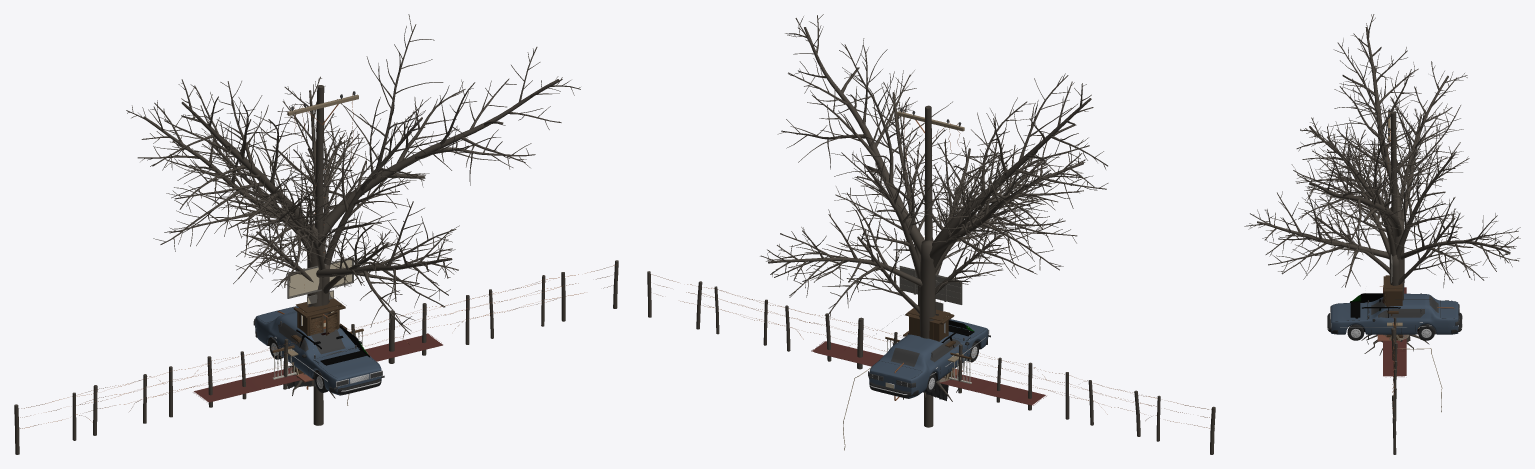
Rendered from props_m1.glb.
The picture shows the model from 3 angles, left to right: view 1: azimuth 30°, elevation 25°; view 2: azimuth 150°, elevation 25°; view 3: azimuth 270°, elevation 25°; orthographic projection. The views are drawn at different scales.
Visible parts, largest first — view 1: P_TREE_2-dead_tree, P_TREE_1-dead_tree, P_CAR_GATE-sedan-body, P_UTILITY_POLE-utility_pole, P_RUNNER_U1-runner_rug, P_FENCE_W-fence_run, P_FENCE_E-fence_run, P_CAR_GATE-sedan, P_SIGN-sign_post-face, P_ARMOIRE-slatted_cabinet; view 2: P_TREE_2-dead_tree, P_TREE_1-dead_tree, P_CAR_GATE-sedan-body, P_RUNNER_U1-runner_rug, P_UTILITY_POLE-utility_pole, P_FENCE_W-fence_run, P_FENCE_E-fence_run, P_SIGN-sign_post, P_ARMOIRE-slatted_cabinet, P_CAR_GATE-sedan; view 3: P_TREE_2-dead_tree, P_TREE_1-dead_tree, P_CAR_GATE-sedan-body, P_CAR_GATE-sedan, P_UTILITY_POLE-utility_pole, P_RUNNER_U1-runner_rug, P_ARMOIRE-slatted_cabinet, P_CAR_INTERIOR-sedan_interior, P_FENCE_E-fence_run.
Part boxes in pixels (<box>): P_TREE_2-dead_tree: <box>126,14,580,398</box>; P_TREE_1-dead_tree: <box>192,76,441,388</box>; P_CAR_GATE-sedan-body: <box>255,306,381,395</box>; P_UTILITY_POLE-utility_pole: <box>287,85,358,425</box>; P_RUNNER_U1-runner_rug: <box>193,333,442,402</box>; P_FENCE_W-fence_run: <box>14,260,618,454</box>; P_FENCE_E-fence_run: <box>72,272,565,440</box>; P_CAR_GATE-sedan: <box>255,316,381,393</box>; P_SIGN-sign_post-face: <box>289,260,351,296</box>; P_ARMOIRE-slatted_cabinet: <box>293,298,345,335</box>; P_TREE_2-dead_tree: <box>760,14,1108,401</box>; P_TREE_1-dead_tree: <box>831,82,1048,399</box>; P_CAR_GATE-sedan-body: <box>869,319,988,398</box>; P_RUNNER_U1-runner_rug: <box>811,341,1046,405</box>; P_UTILITY_POLE-utility_pole: <box>897,105,964,427</box>; P_FENCE_W-fence_run: <box>647,271,1215,454</box>; P_FENCE_E-fence_run: <box>696,281,1160,441</box>; P_SIGN-sign_post: <box>899,266,962,304</box>; P_ARMOIRE-slatted_cabinet: <box>905,308,954,380</box>; P_CAR_GATE-sedan: <box>869,322,987,397</box>; P_TREE_2-dead_tree: <box>1244,14,1520,353</box>; P_TREE_1-dead_tree: <box>1311,108,1469,355</box>; P_CAR_GATE-sedan-body: <box>1331,293,1458,334</box>; P_CAR_GATE-sedan: <box>1327,300,1462,340</box>; P_UTILITY_POLE-utility_pole: <box>1387,109,1397,241</box>; P_RUNNER_U1-runner_rug: <box>1383,287,1406,377</box>; P_ARMOIRE-slatted_cabinet: <box>1383,275,1402,337</box>; P_CAR_INTERIOR-sedan_interior: <box>1350,293,1400,331</box>; P_FENCE_E-fence_run: <box>1392,317,1397,434</box>.
Size of what is drawn, in the model's own units: 20.6 by 13.36 by 10.51.
